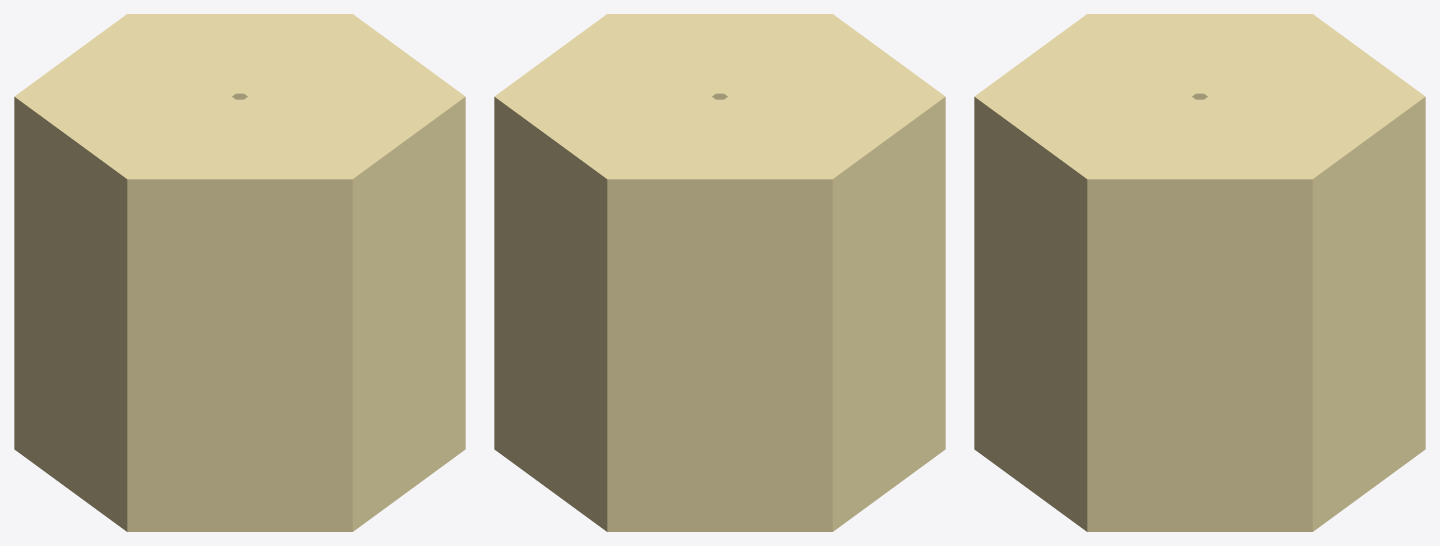
File: candle-002.glb
3 views of the same model, side by side, from view 1: azimuth 30°, elevation 25°; view 2: azimuth 150°, elevation 25°; view 3: azimuth 270°, elevation 25° (orthographic).
Visible parts, largest first — view 1: candle.002; view 2: candle.002; view 3: candle.002.
Boxes of the visible parts, left/top/right/bottom form: candle.002: left=14, top=14, right=465, bottom=531; candle.002: left=494, top=14, right=945, bottom=531; candle.002: left=974, top=14, right=1425, bottom=531.
Size of the model in its own units: 1.73 by 1.73 by 2.
